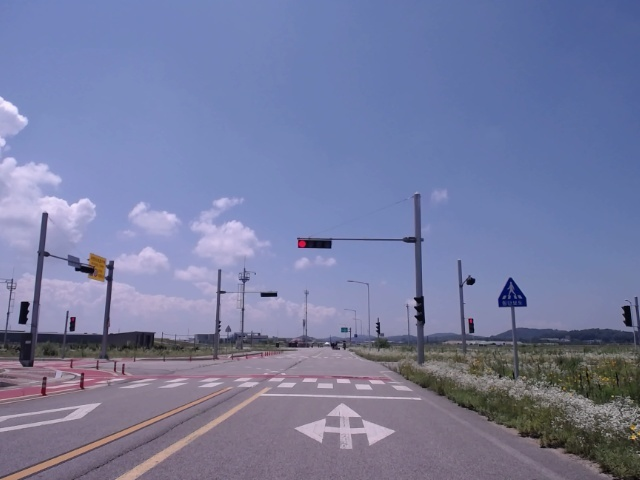red_4: (297, 240, 332, 249)
